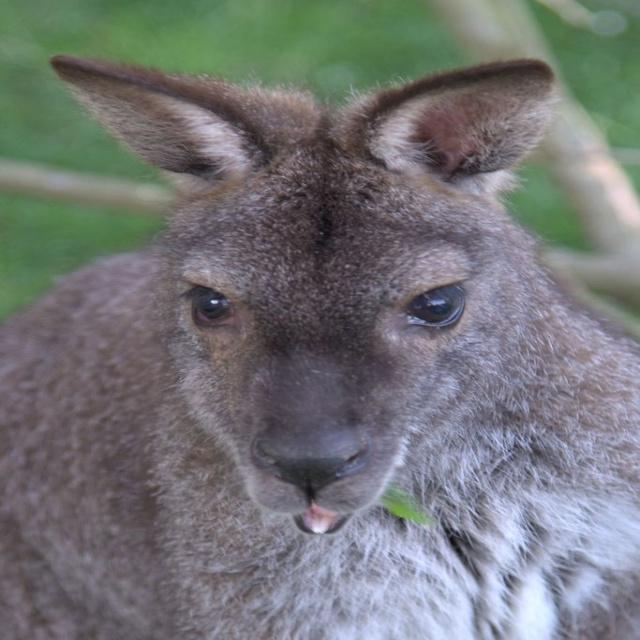Kangaroo: (0, 53, 639, 640)
